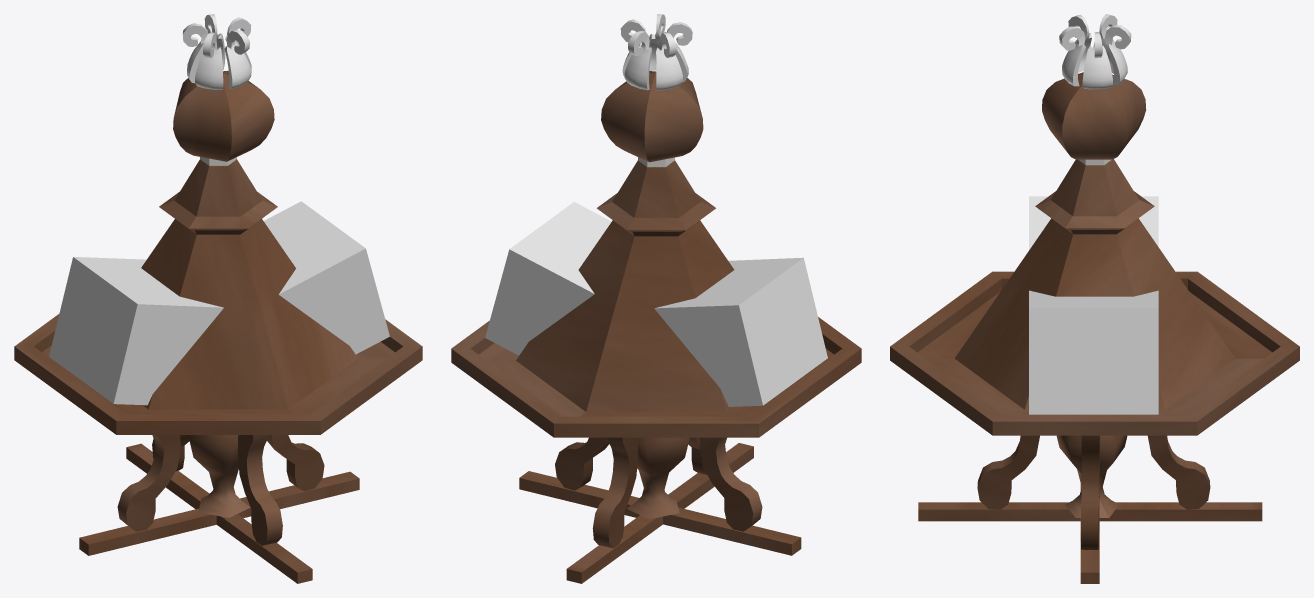
The model's file is Librero.fbx.
The picture shows the model from 3 angles, left to right: view 1: azimuth 30°, elevation 25°; view 2: azimuth 150°, elevation 25°; view 3: azimuth 270°, elevation 25°; orthographic projection.
Visible parts, largest first — view 1: BézierCurve.002, Cube.005, BézierCurve.001; view 2: BézierCurve.002, Cube.005, BézierCurve.001; view 3: BézierCurve.002, Cube.005, BézierCurve.001.
Boxes of the visible parts, <box> form: BézierCurve.002: <box>14,14,422,583</box>; Cube.005: <box>49,201,389,405</box>; BézierCurve.001: <box>117,435,324,545</box>; BézierCurve.002: <box>451,14,861,583</box>; Cube.005: <box>485,202,827,406</box>; BézierCurve.001: <box>555,437,762,548</box>; BézierCurve.002: <box>890,14,1299,583</box>; Cube.005: <box>1029,196,1158,414</box>; BézierCurve.001: <box>977,435,1210,549</box>.
Bounding box in the file's own units: 132 × 202 × 152.
